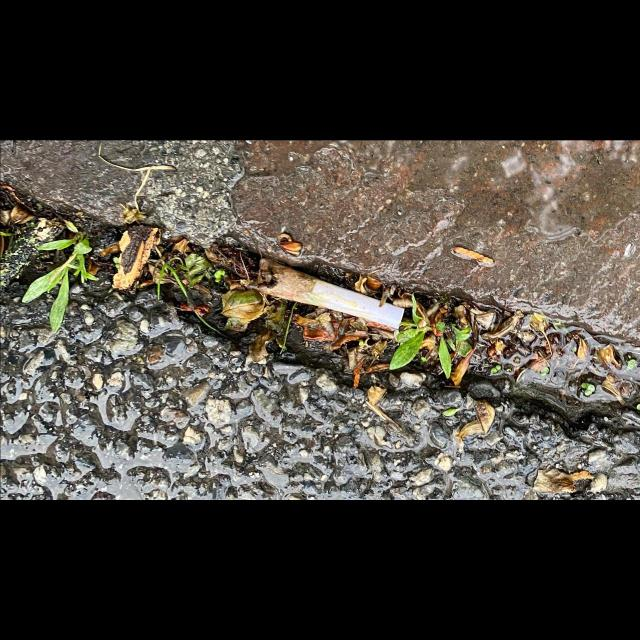cigarette: (239, 256, 405, 330)
